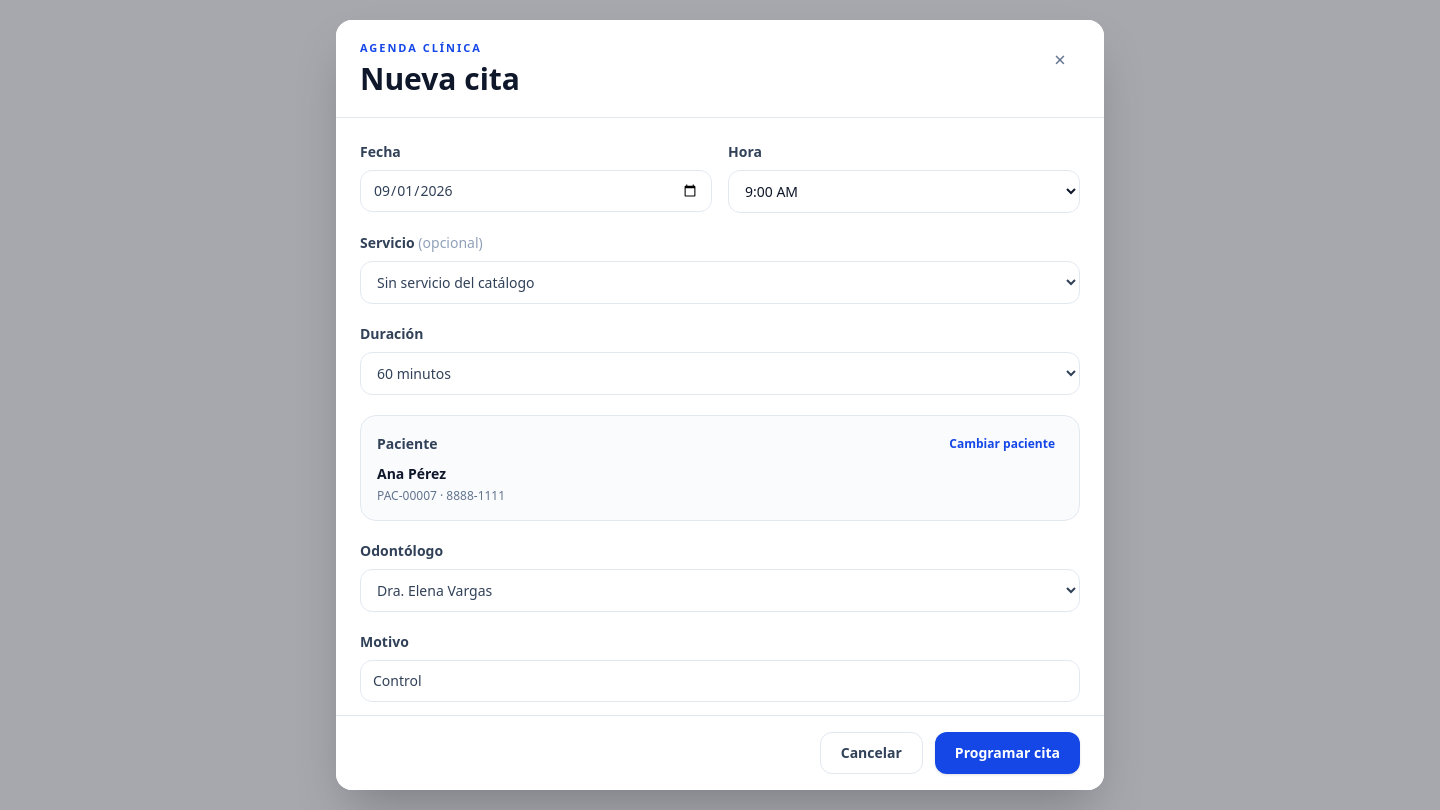
Test: AppointmentFormPanel patient search › shows a booking API rejection beside the submit button without losing entered data
The image size is (1440, 810).
Click the button "Programar cita": (1007, 753) [935, 732, 1080, 774]
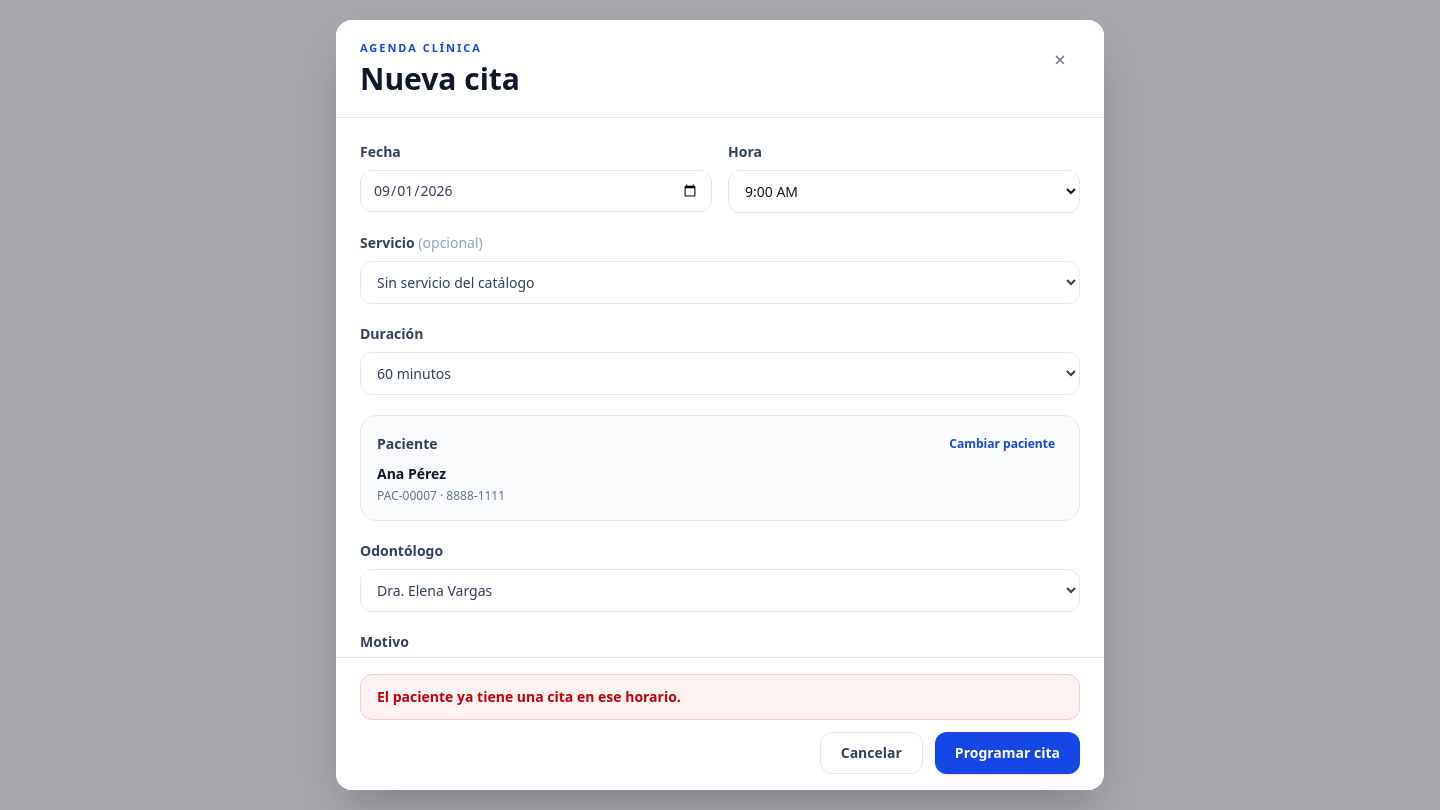
Expected: the element named "Paciente seleccionado" shows "PAC-00007", [377, 486, 437, 504]
Now the message reads "El paciente ya tiene una cita en ese horario.", box [377, 687, 681, 706]
